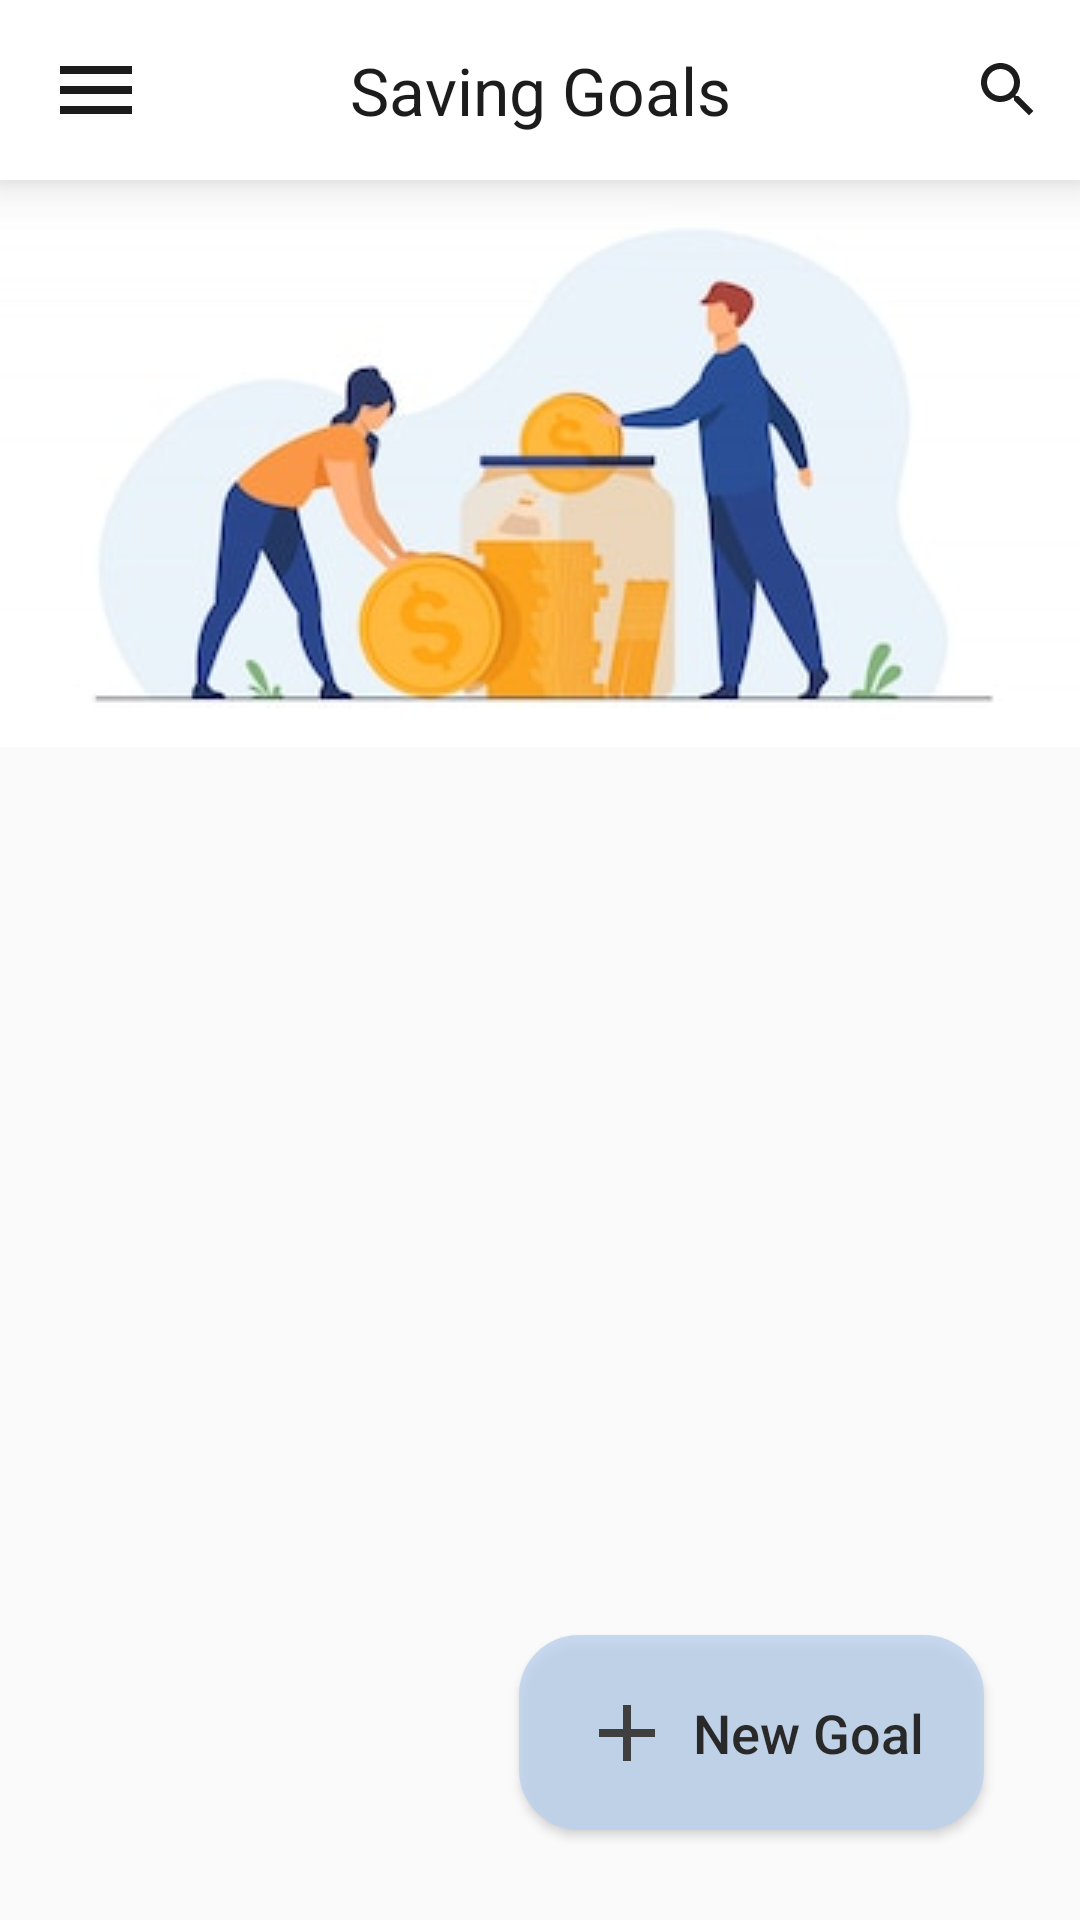

Where to tap for icons on this 1080*1920 app screen, as [x,y]:
menu: [96,90]
